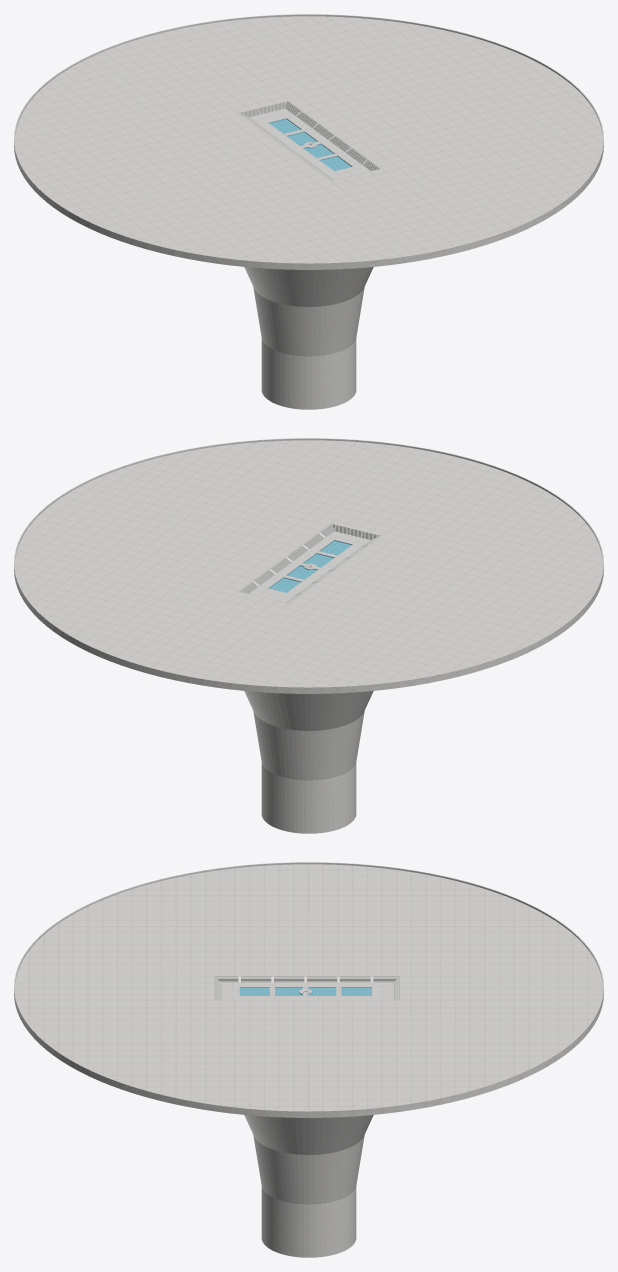
Rendered from platform1a.dae.
The picture shows the model from 3 angles, top to bottom: view 1: azimuth 30°, elevation 25°; view 2: azimuth 150°, elevation 25°; view 3: azimuth 270°, elevation 25°; orthographic projection.
Visible parts, largest first — view 1: base-0; view 2: base-0; view 3: base-0.
Boxes of the visible parts, <box> form: base-0: <box>14,14,603,409</box>; base-0: <box>14,438,603,833</box>; base-0: <box>14,862,603,1257</box>.
Bounding box in the file's own units: 1004 × 471 × 1004.
